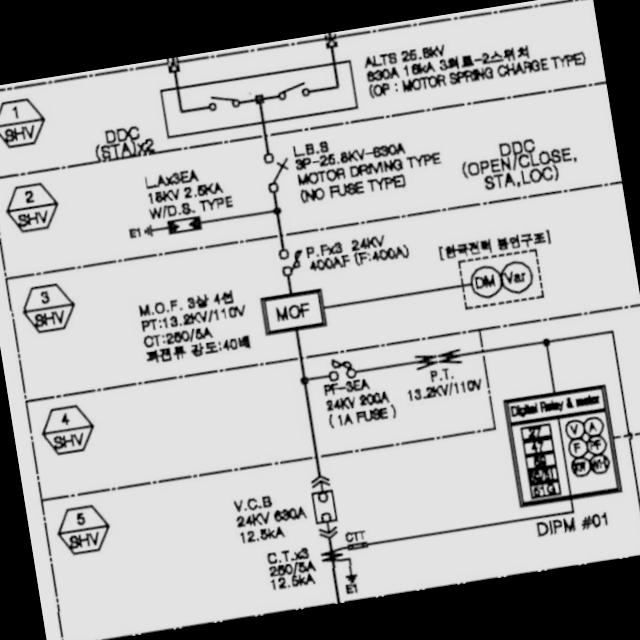CB: (312, 488, 336, 524)
CT: (320, 545, 344, 565)
GND: (344, 572, 360, 584), (144, 222, 154, 237)
LA: (166, 215, 202, 233)
MOF: (265, 292, 322, 332)
PF: (280, 246, 306, 276), (328, 355, 357, 381)
PT: (415, 348, 462, 370)
